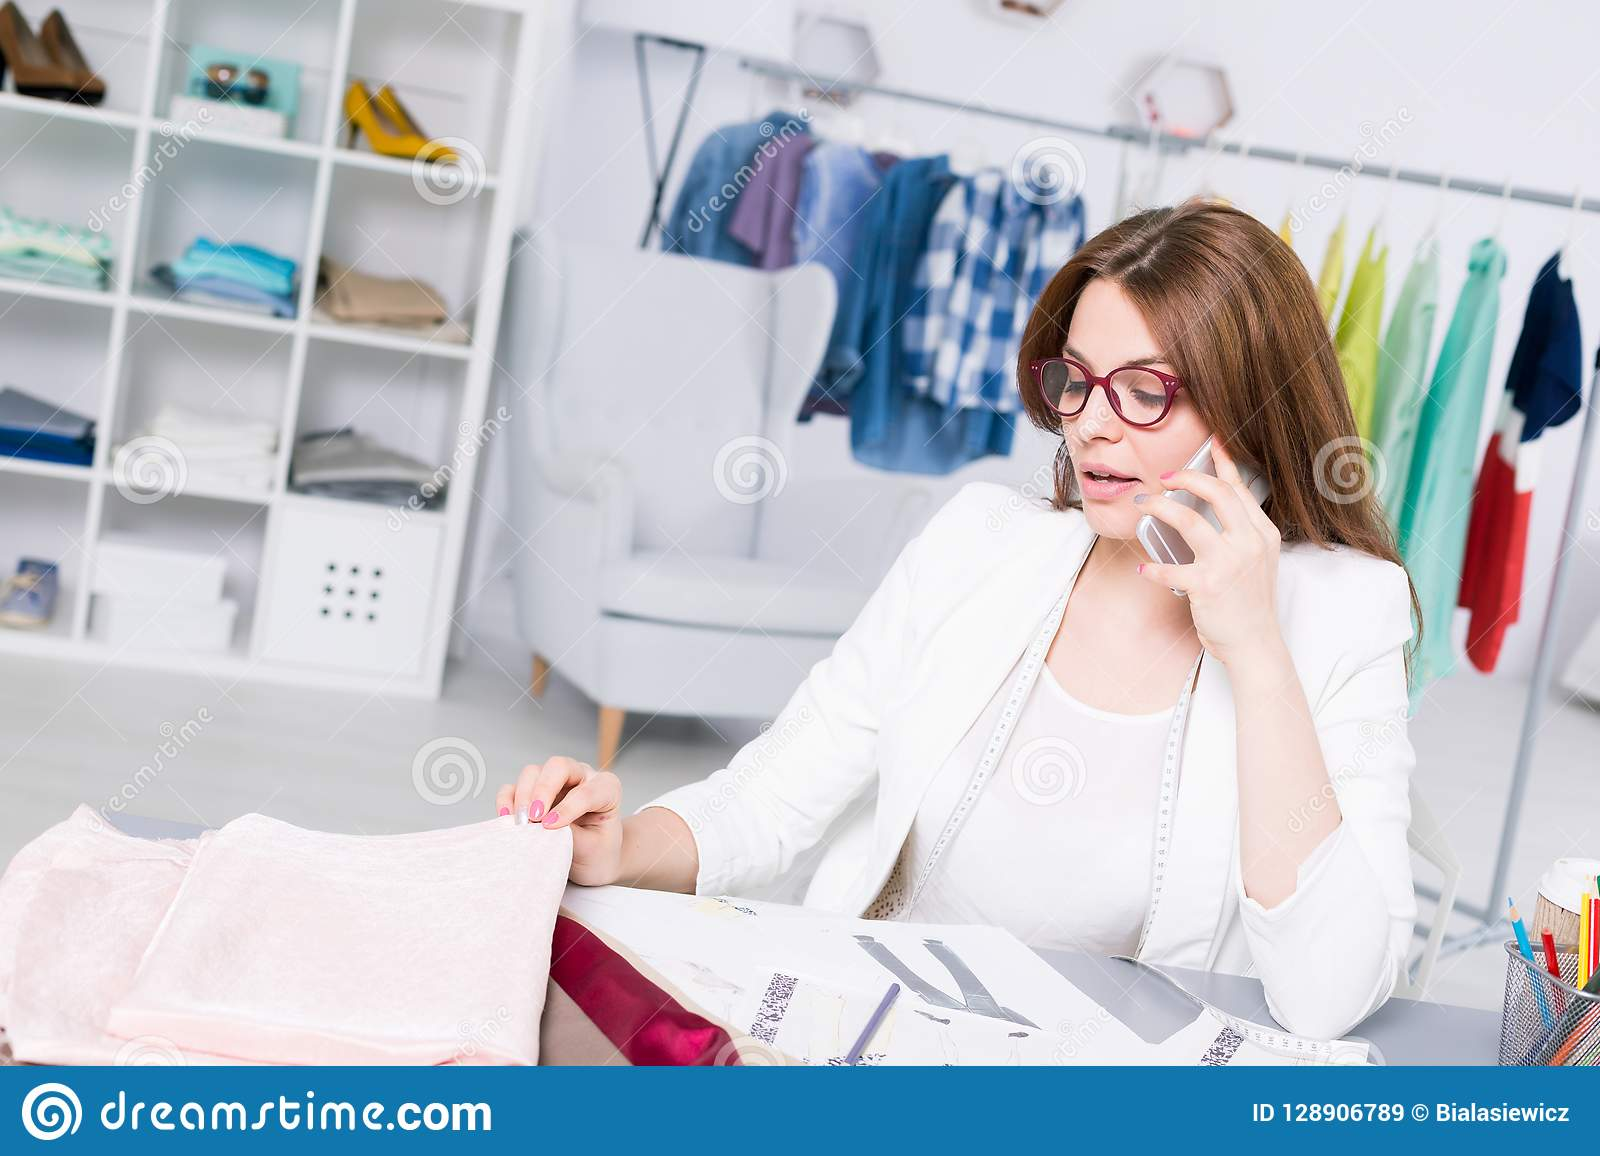phone: (1137, 433, 1273, 602)
talk: (1058, 330, 1292, 666)
